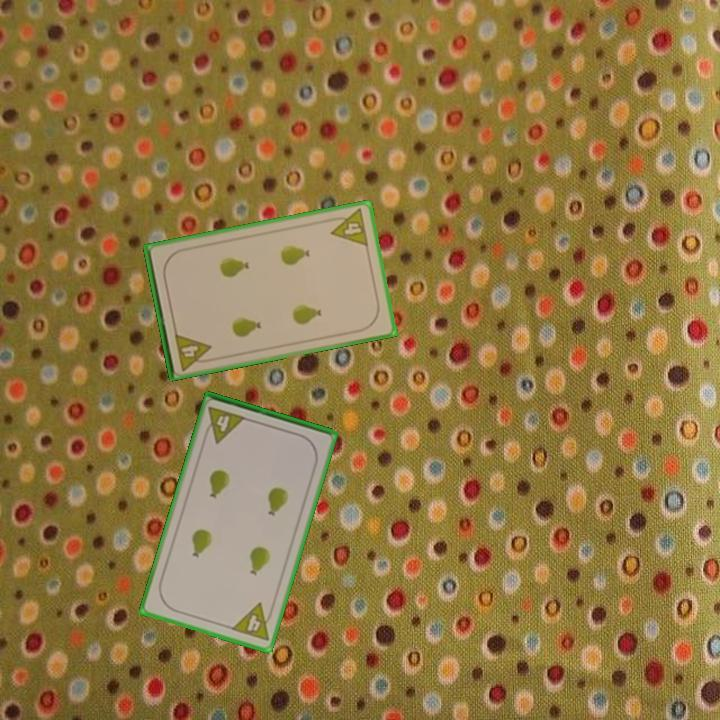4p: (228, 599, 277, 644), (200, 403, 249, 446), (325, 205, 371, 249), (171, 329, 216, 373)
